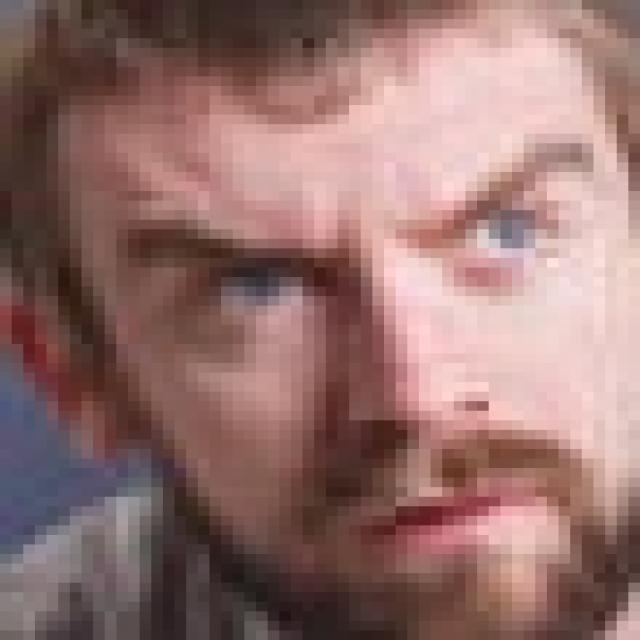Anxiety: (72, 3, 628, 630)
